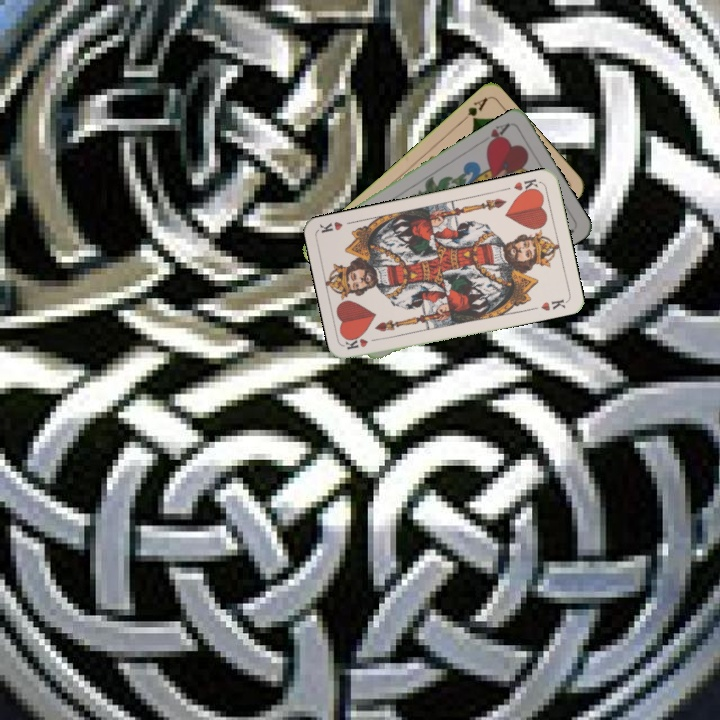GA: (457, 94, 490, 125)
HA: (482, 118, 513, 151)
HK: (342, 334, 383, 352), (510, 174, 542, 197)
